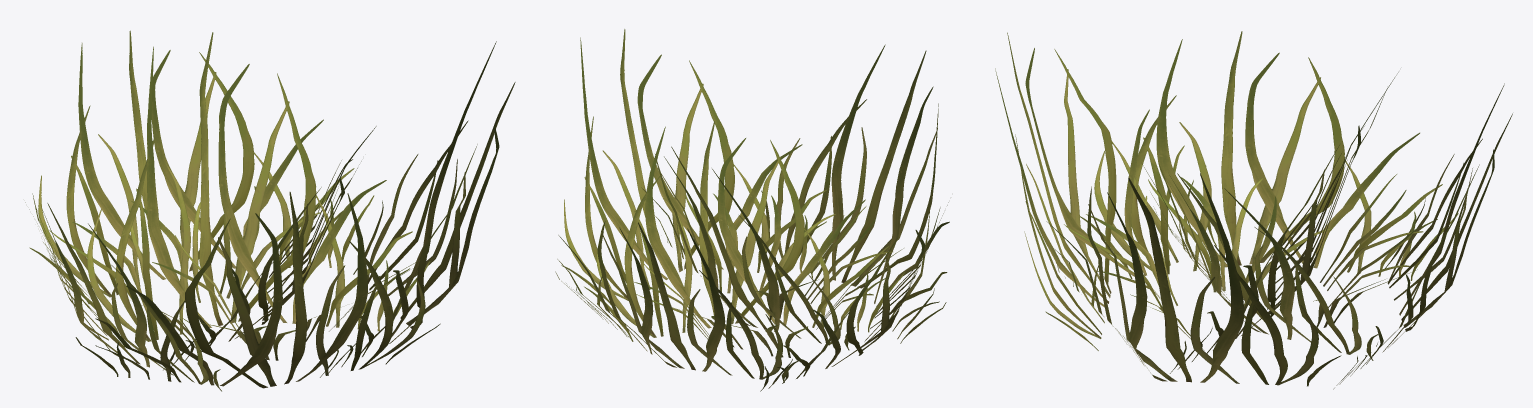
The model's file is GrassVar1.fbx.
The picture shows the model from 3 angles, left to right: view 1: azimuth 30°, elevation 25°; view 2: azimuth 150°, elevation 25°; view 3: azimuth 270°, elevation 25°; orthographic projection. The views are drawn at different scales.
Visible parts, largest first — view 1: Grass; view 2: Grass; view 3: Grass.
Boxes of the visible parts, x1,y1,x2,y2 form: Grass: (25, 30, 515, 391); Grass: (555, 29, 949, 391); Grass: (995, 31, 1512, 389).
Bounding box in the file's own units: 90.29 × 54.22 × 90.63.
